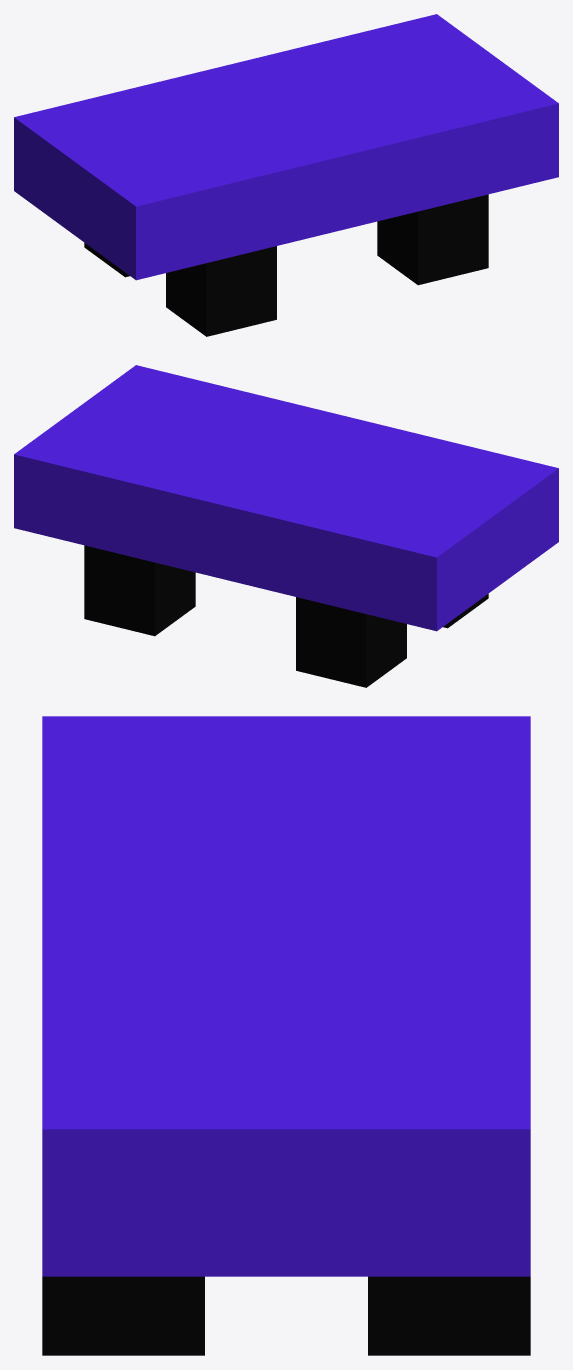
File: Skateboard.obj
The picture shows the model from 3 angles, top to bottom: view 1: azimuth 30°, elevation 25°; view 2: azimuth 150°, elevation 25°; view 3: azimuth 270°, elevation 25°; orthographic projection. The views are drawn at different scales.
Size of the model in its own units: 6 by 2 by 3.
1 material, 1 textured.
